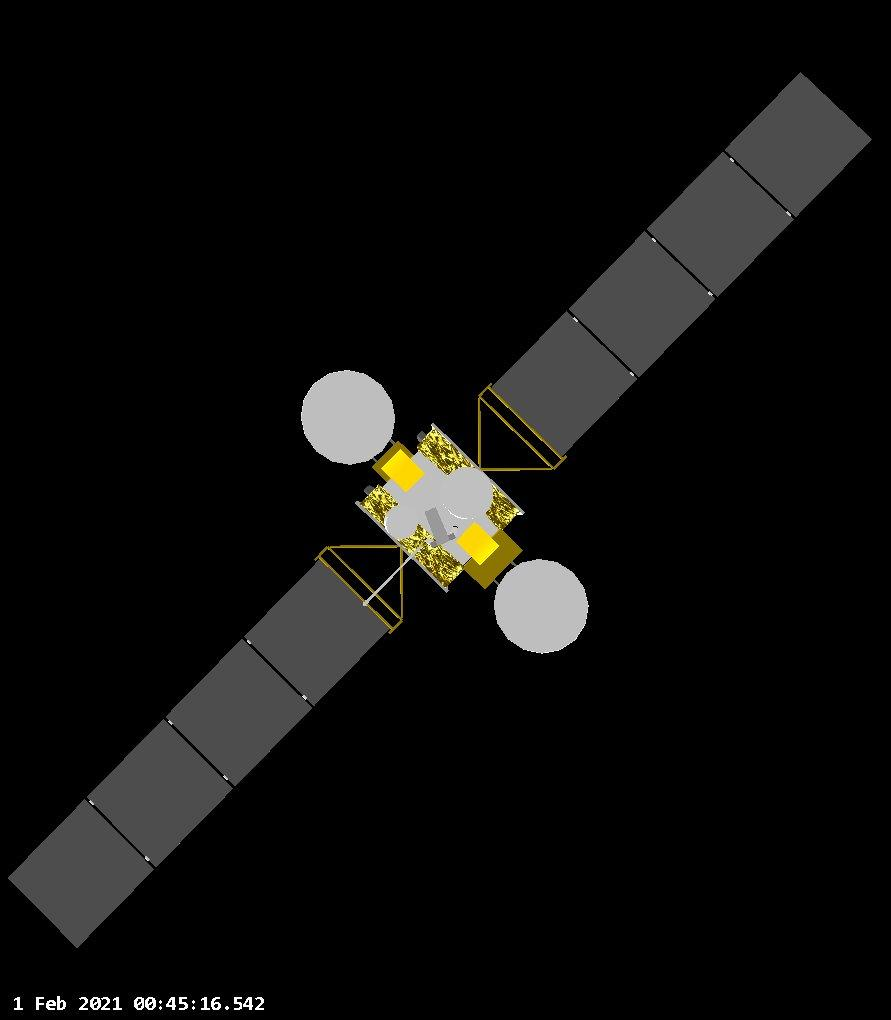antenna: (489, 552, 594, 659), (298, 361, 399, 471)
body: (350, 420, 535, 600)
solar: (468, 55, 880, 478), (0, 534, 410, 957)
